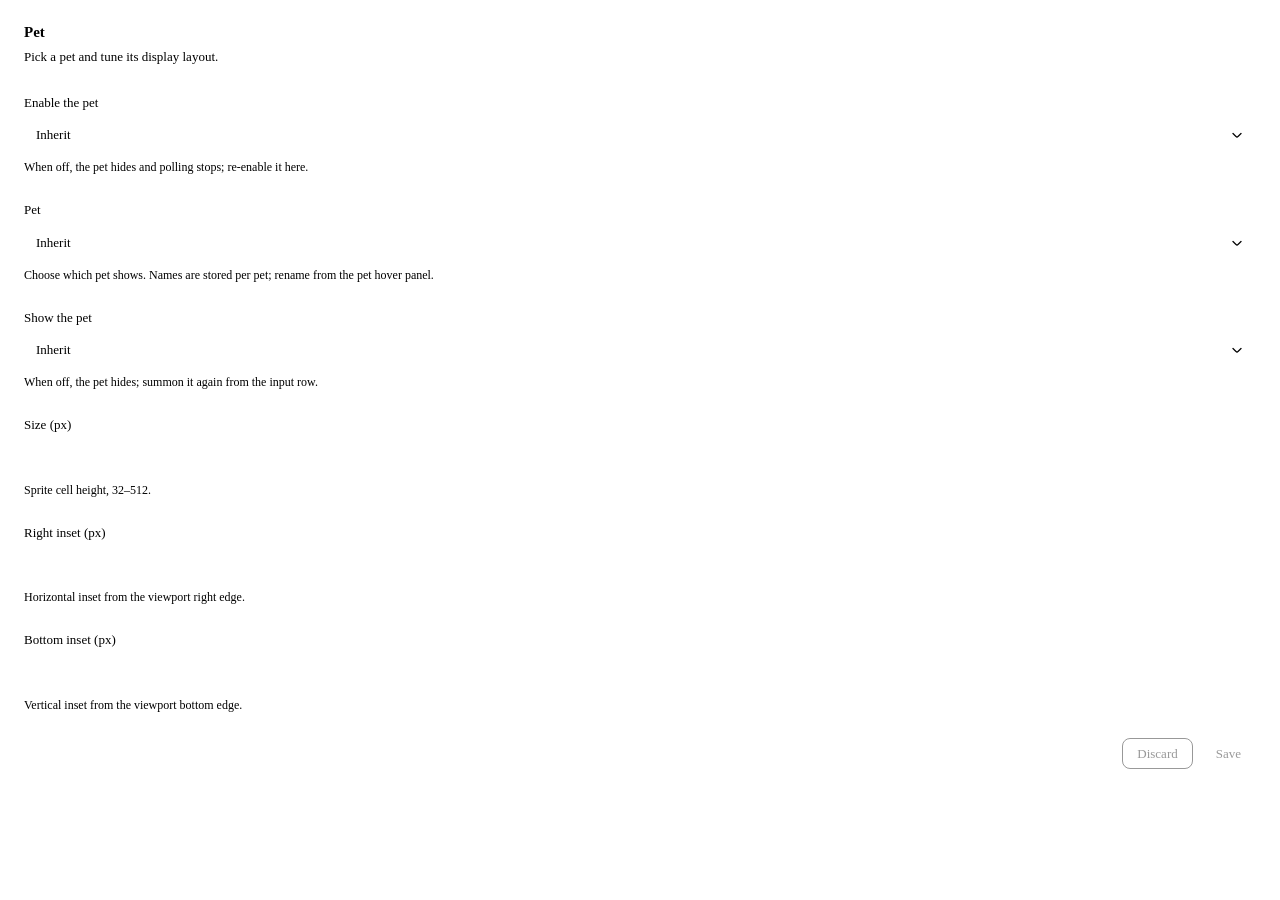
PetSettingsSection › renders the pet settings card open as a first-level settings page
Click the button named "enable the pet": (53, 135) [24, 118, 1256, 152]
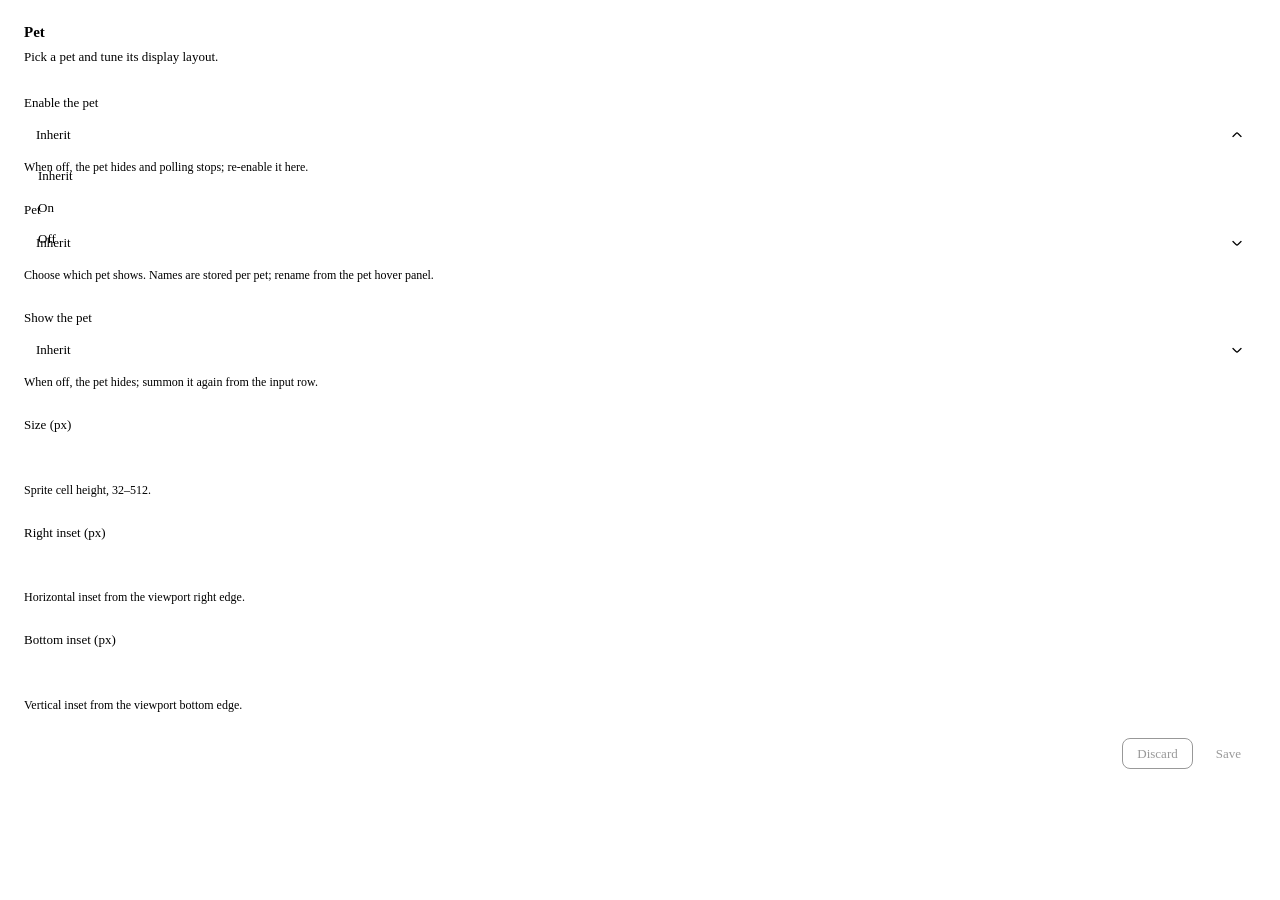
Now the options read "Inherit", "On", "Off", in this order, box [38, 168, 73, 183]; [38, 200, 54, 214]; [38, 231, 56, 246]
